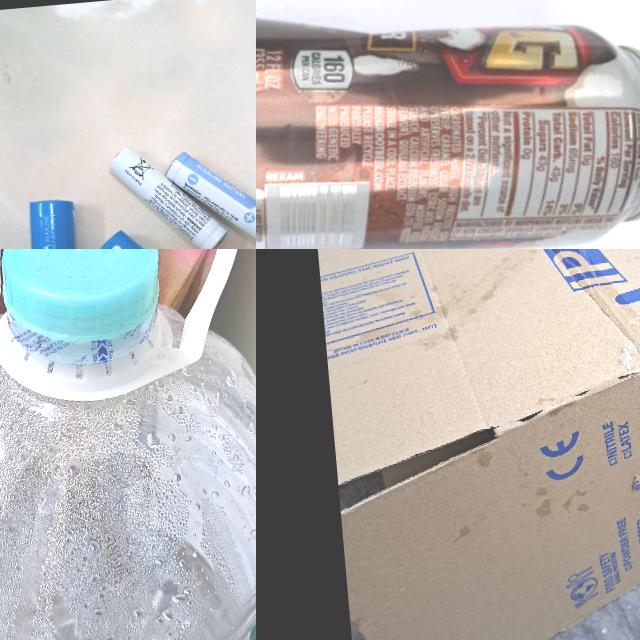bateria: (110, 137, 230, 249), (162, 142, 256, 249), (19, 196, 89, 249)
garrafa plástica: (0, 285, 256, 640)
lata: (256, 0, 640, 249)
papelão: (310, 249, 640, 640)
tampa plástica: (0, 249, 163, 341)
